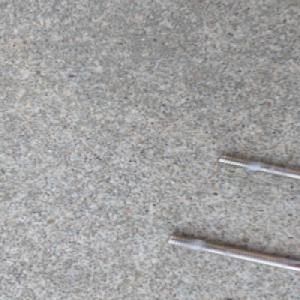ClampPart: (161, 150, 300, 271)
